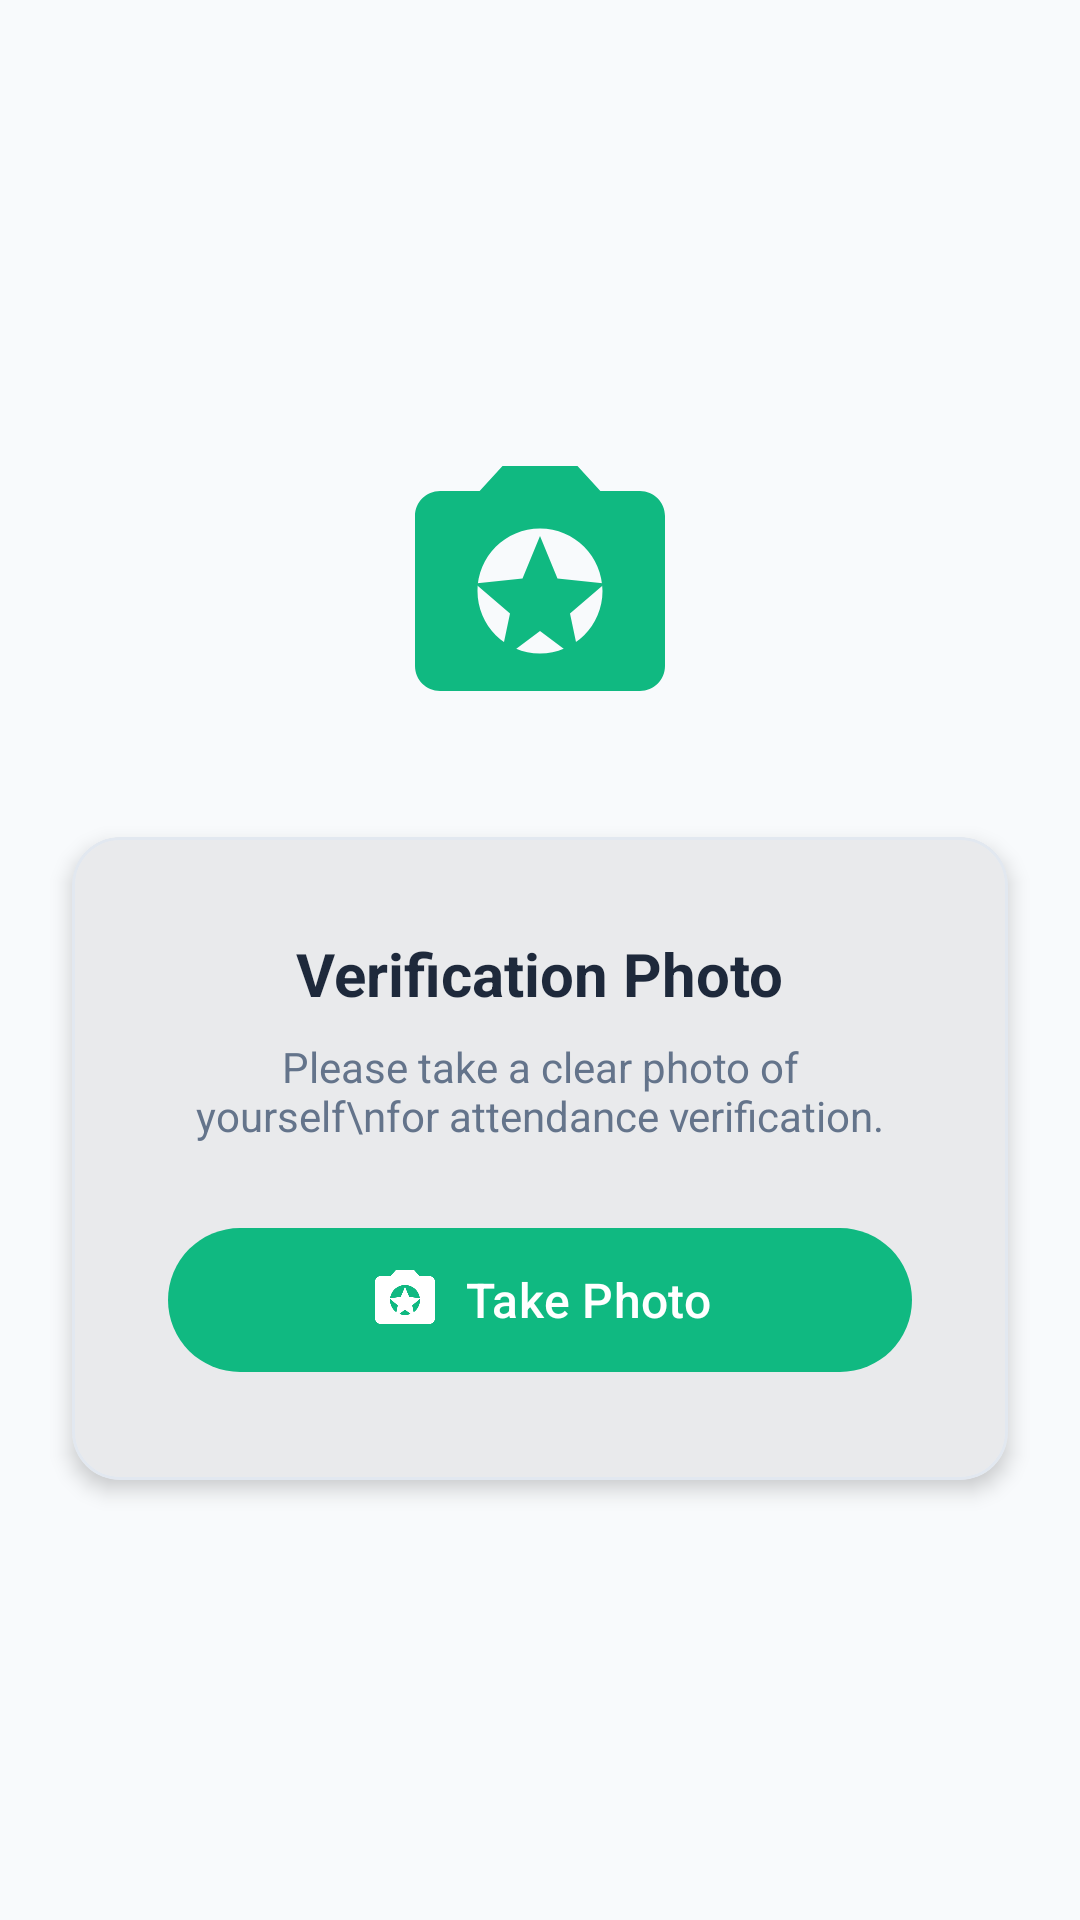

Locate icon controls on the screen. Image size 1080×1920, boxes as (x1, y1, x2, y2).
Camera icon: (415, 466, 665, 691)
